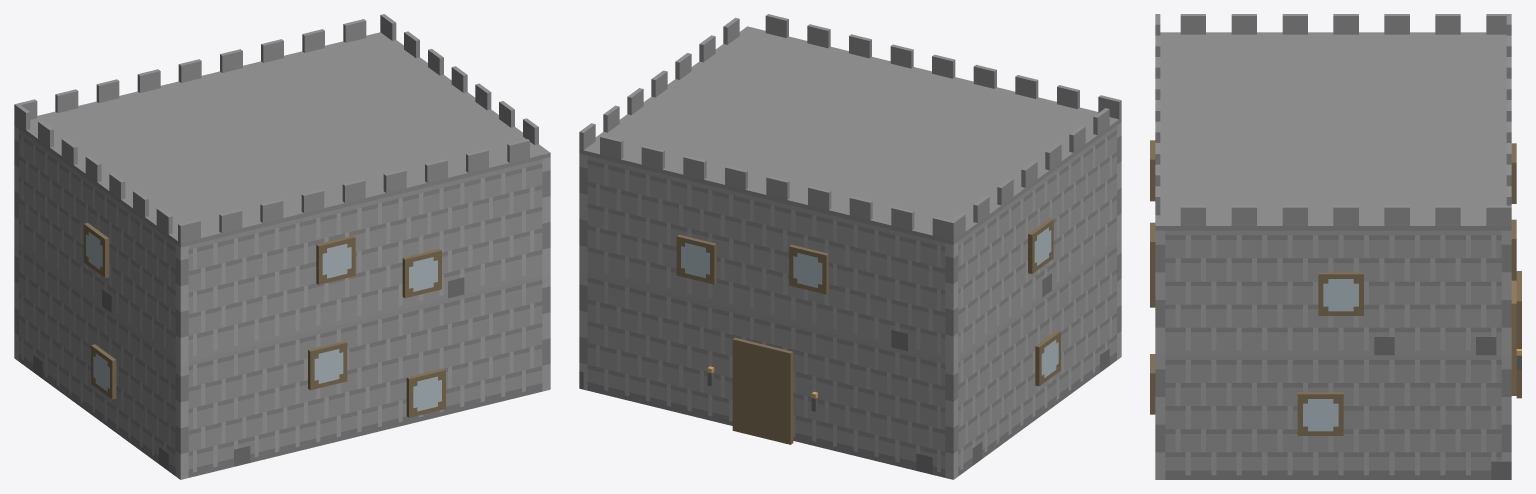
File: cuartel_guardia_comunal_01.glb
3 views of the same model, side by side, from view 1: azimuth 30°, elevation 25°; view 2: azimuth 150°, elevation 25°; view 3: azimuth 270°, elevation 25° (orthographic). The views are drawn at different scales.
Parts seen in each view (by area): view 1: cuartel_guardia_comunal_01; view 2: cuartel_guardia_comunal_01; view 3: cuartel_guardia_comunal_01.
Boxes of the visible parts, x1,y1,x2,y2 form: cuartel_guardia_comunal_01: (14,14,550,479); cuartel_guardia_comunal_01: (579,14,1121,479); cuartel_guardia_comunal_01: (1150,14,1521,479).
Size of the model in its own units: 9.2 by 5.9 by 7.3.
